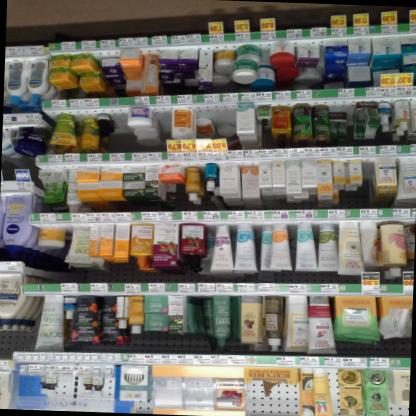empty_space: (110, 108, 132, 142), (210, 104, 234, 124), (361, 156, 376, 187), (157, 106, 171, 137), (326, 100, 354, 114)
